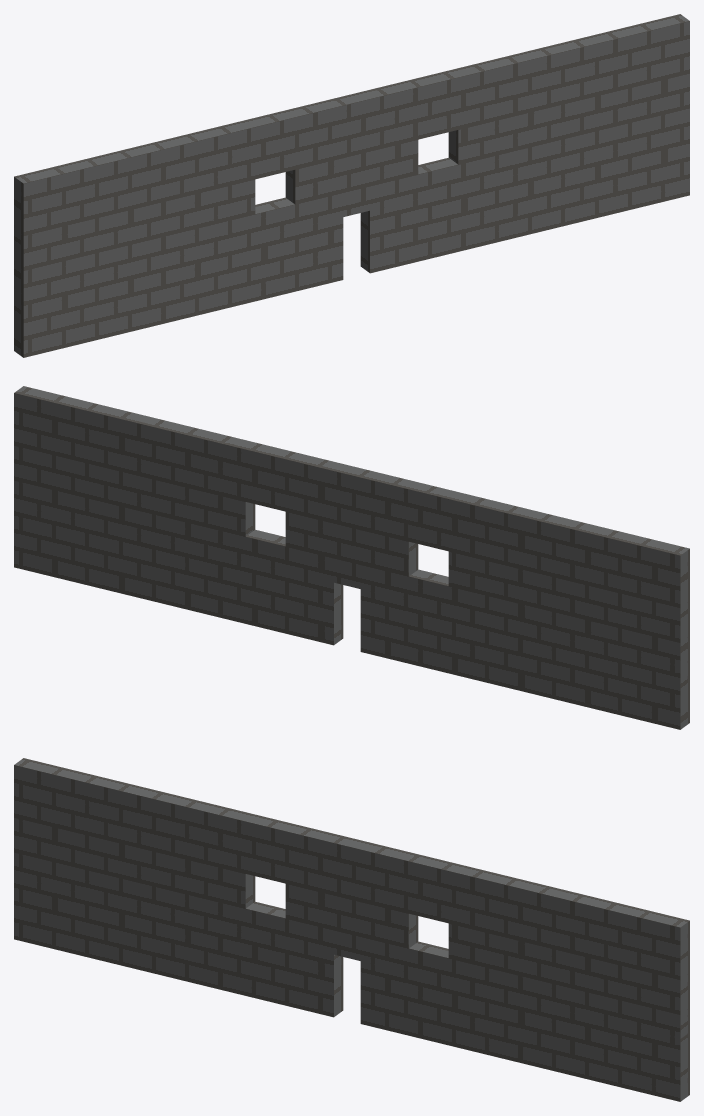
File: Castle_wall.fbx
3 renders of one model, top to bottom at view 1: azimuth 30°, elevation 25°; view 2: azimuth 150°, elevation 25°; view 3: azimuth 330°, elevation 25°, orthographic.
Parts seen in each view (by area): view 1: Cube; view 2: Cube; view 3: Cube.
Boxes of the visible parts, x1,y1,x2,y2 form: Cube: (14,14,689,357); Cube: (14,386,689,729); Cube: (14,758,689,1101).
Size of the model in its own units: 2000 by 500 by 50.
